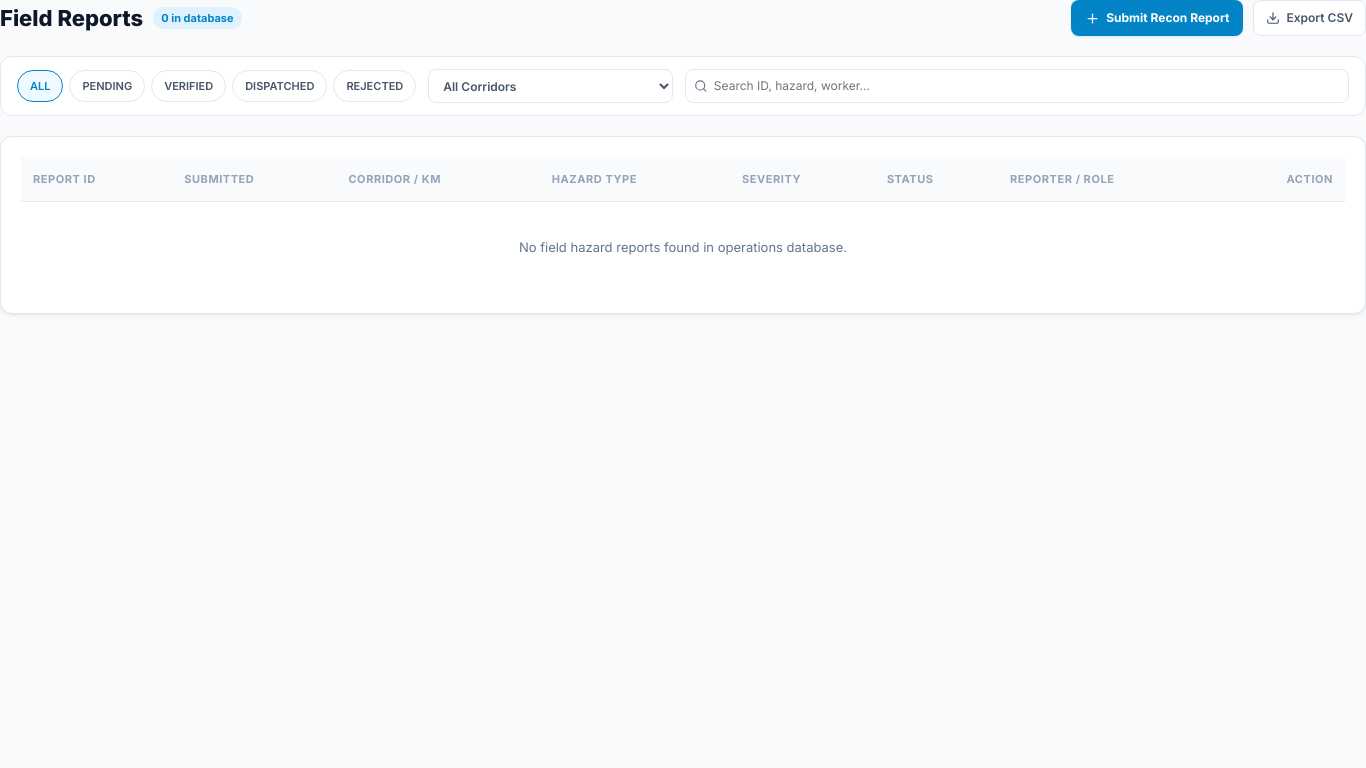
Web Platform Interactive Inputs & Consoles › FieldReports Interactivity › allows filtering by status, search, and creating new reconnaissance report
Status chip click
Click the button "PENDING". click: (107, 86)
box: [70,70,145,102]
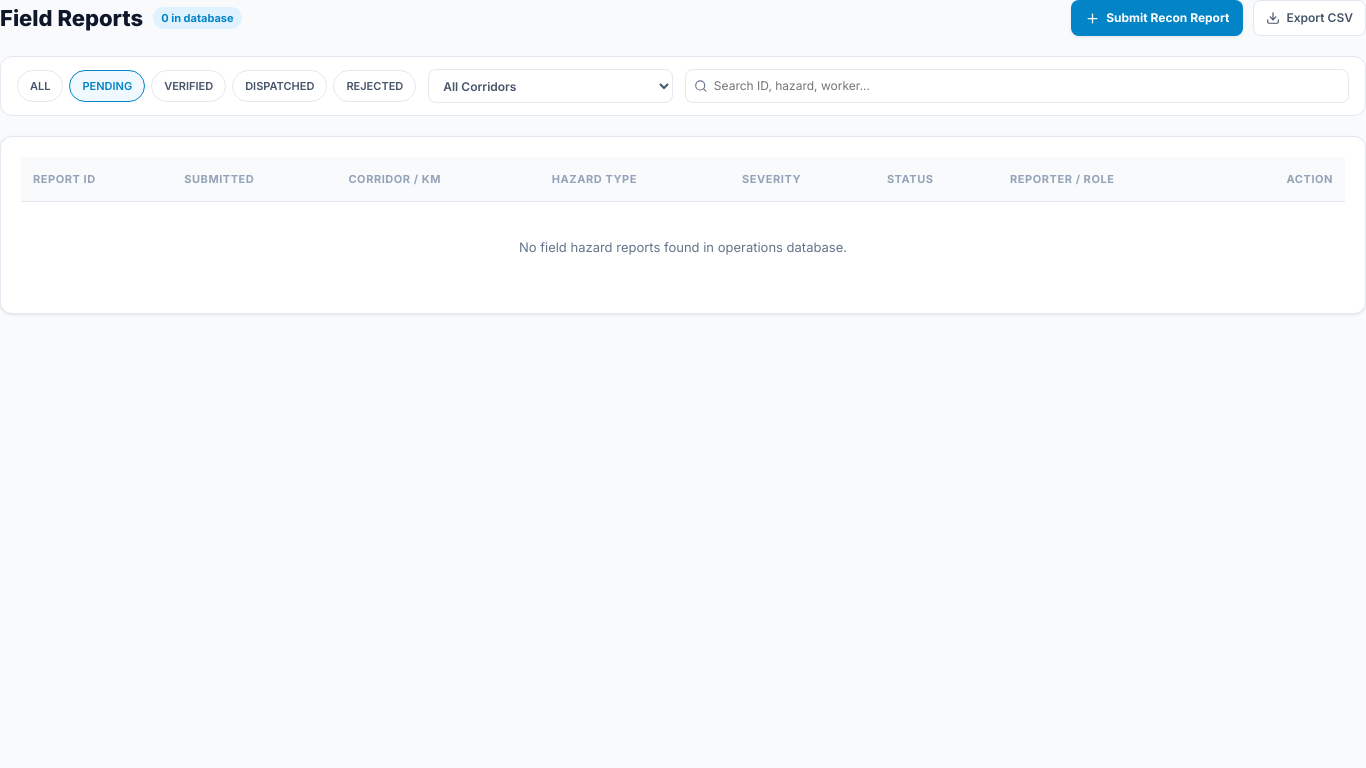
Open Submit Recon Report modal
Click the button "Submit Recon Report". click: (1157, 18)
box: [1071,0,1244,36]
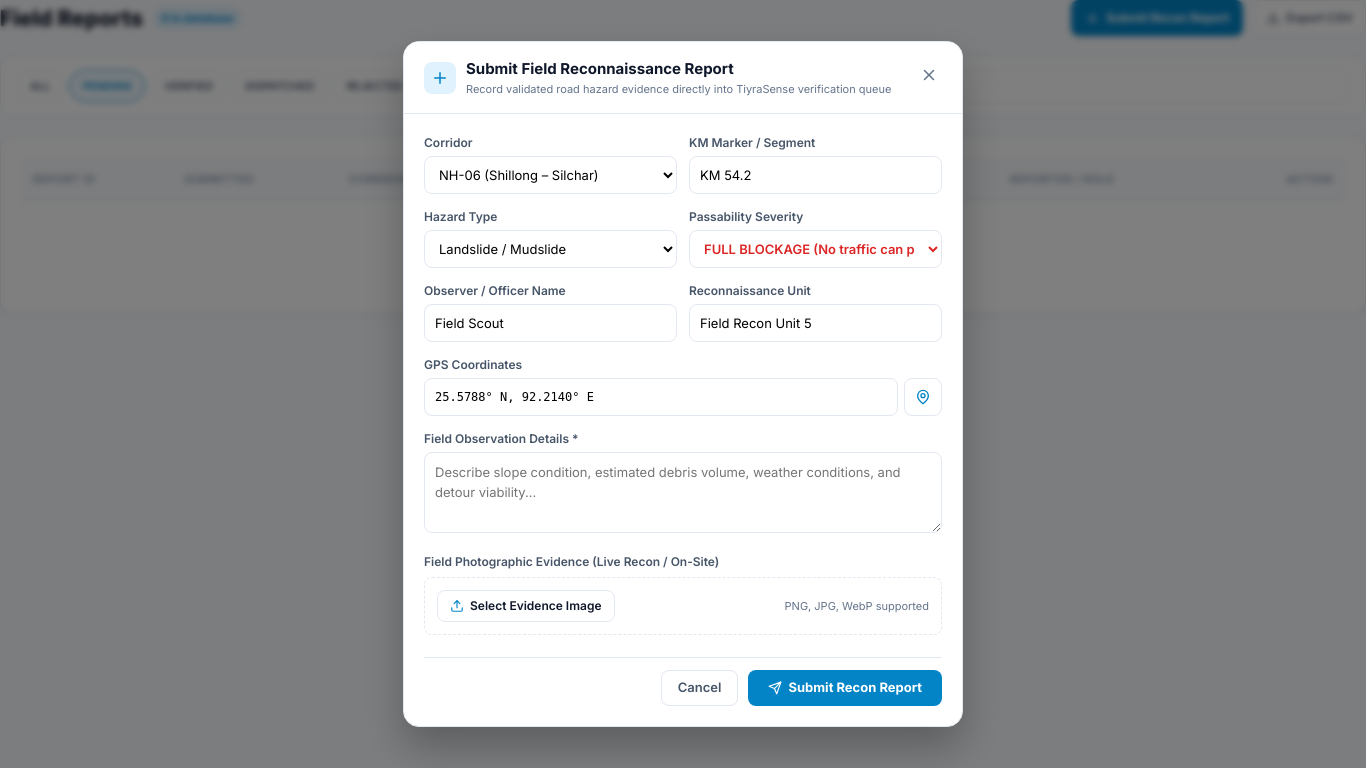
Result: the text "Submit Field Reconnaissance Report" is shown at [466,59,734,78]
Fill in details
Replace the text in the text box with placeholder "Describe slope condition" with "High precipitation slope failure observed near culvert.". click: (683, 493)
box: [424,452,942,533]
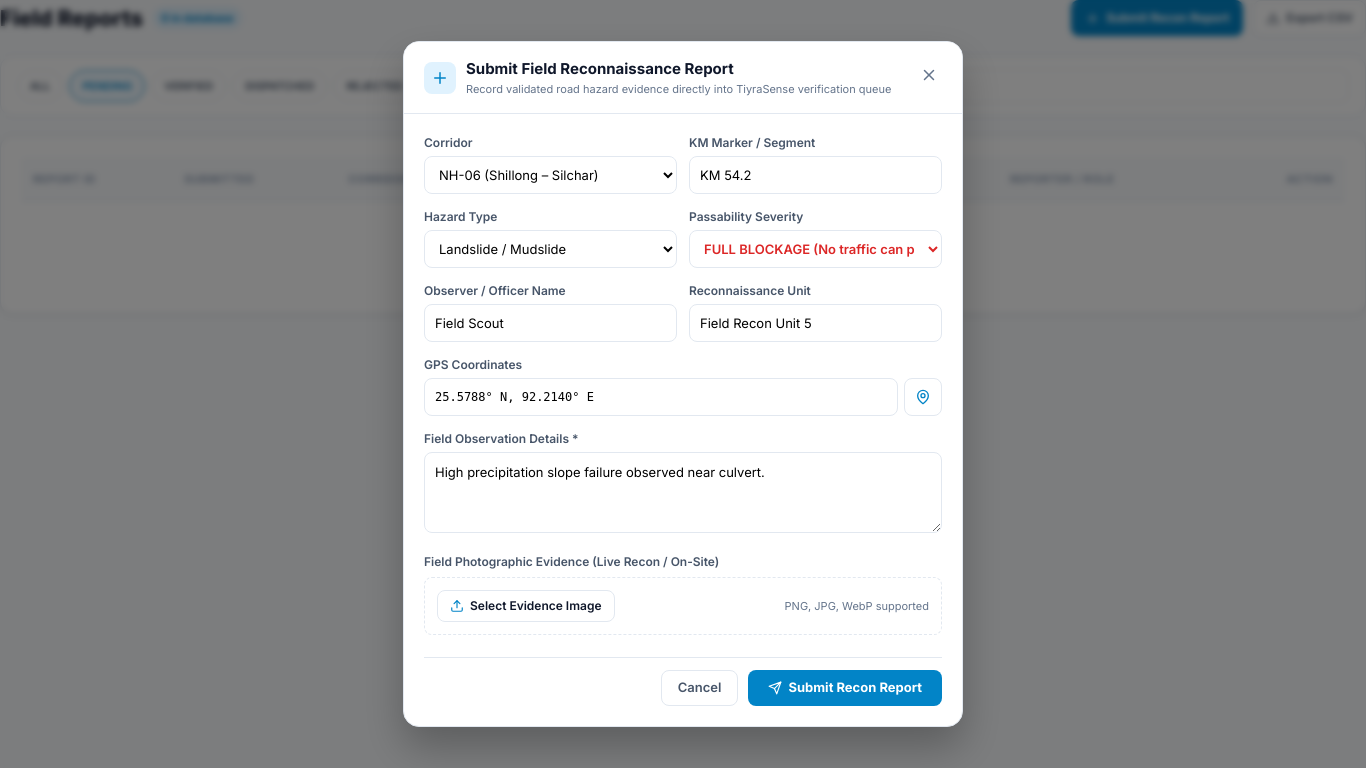
Submit form inside modal
Click the button "Submit Recon Report". click: (845, 688)
box: [748,670,942,706]
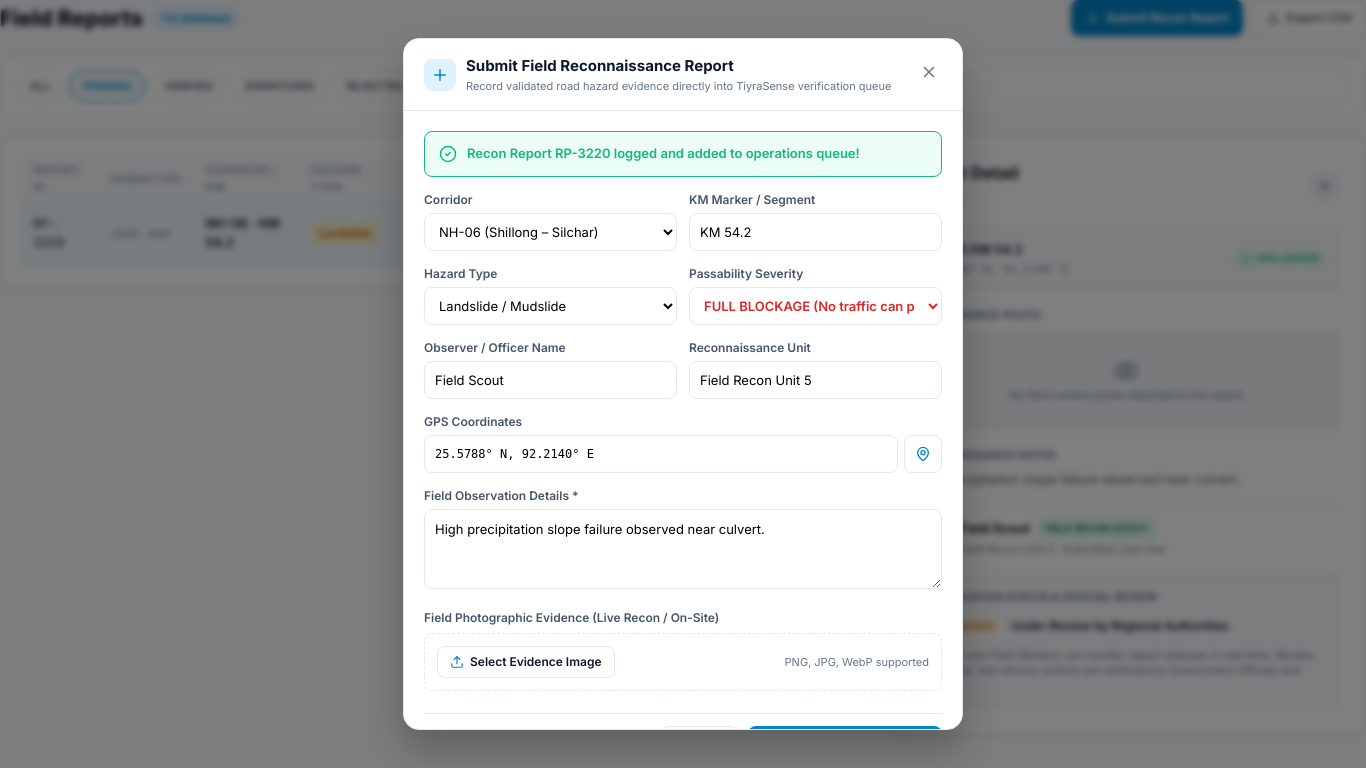
Result: the text "Recon Report RP-3220 logged and added to operations queue!" is shown at [467,144,860,164]
